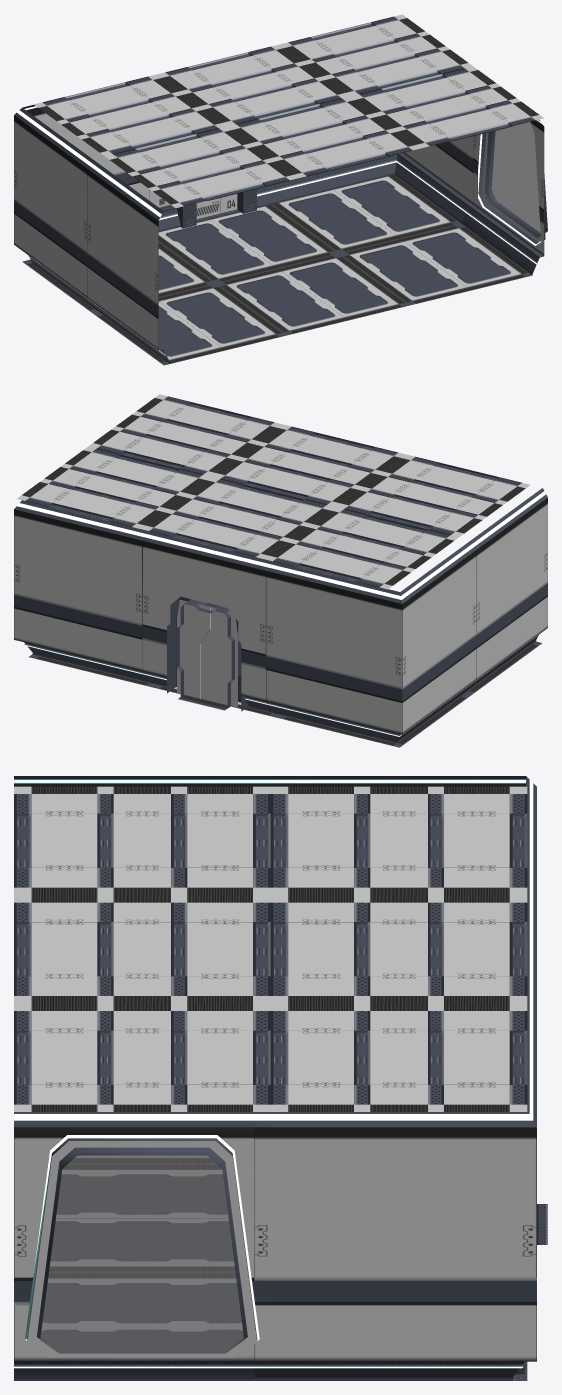
The model's file is UnityVFXRoom.glb.
3 renders of one model, top to bottom at view 1: azimuth 30°, elevation 25°; view 2: azimuth 150°, elevation 25°; view 3: azimuth 270°, elevation 25°, orthographic. The views are drawn at different scales.
Visible parts, largest first — view 1: roofPanel, floorPanel, cornerWall.001, wall, cornerWall, wallWithWindowFrame, window, doorbase; view 2: roofPanel, cornerWall.001, cornerWall, doorbase, wall, floorPanel; view 3: roofPanel, cornerWall, window, floorPanel, wallWithWindowFrame, cornerWall.001, wall, doorbase.
Boxes of the visible parts, box(x1,y1,x2,y2) form: roofPanel: box(34, 14, 543, 208); floorPanel: box(22, 174, 532, 365); cornerWall.001: box(14, 82, 149, 311); wall: box(87, 159, 170, 363); cornerWall: box(275, 22, 477, 223); wallWithWindowFrame: box(461, 119, 547, 275); window: box(491, 122, 540, 232); doorbase: box(149, 52, 278, 231); roofPanel: box(17, 394, 530, 589); cornerWall.001: box(266, 540, 476, 742); cornerWall: box(14, 500, 148, 682); doorbase: box(142, 530, 272, 712); wall: box(464, 488, 547, 693); floorPanel: box(28, 641, 542, 747); roofPanel: box(14, 786, 527, 1111); cornerWall: box(254, 1001, 536, 1380); window: box(40, 1155, 244, 1353); floorPanel: box(41, 1156, 527, 1380); wallWithWindowFrame: box(14, 1112, 270, 1380); cornerWall.001: box(270, 776, 536, 905); wall: box(14, 776, 270, 786); doorbase: box(526, 893, 547, 1244).
Size of the model in its own units: 10.76 by 4.01 by 6.93.
Materials: 3 (1 with a texture image).
